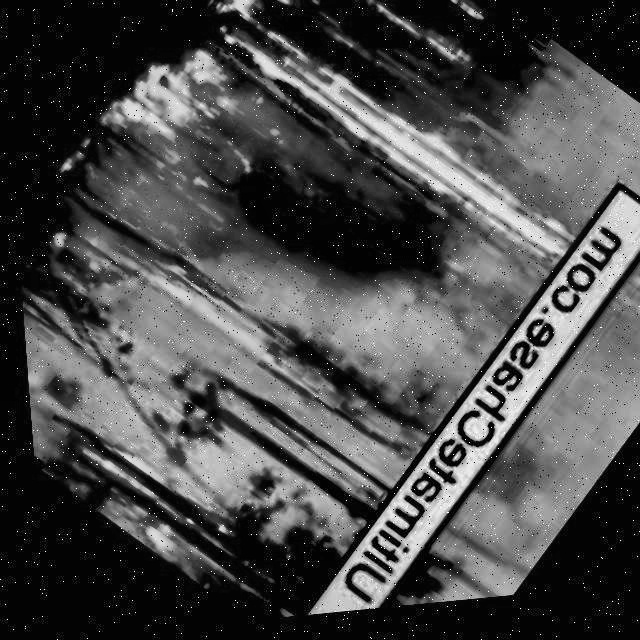Fire: (256, 2, 582, 302), (90, 0, 376, 180), (39, 412, 230, 595), (369, 0, 482, 102), (428, 0, 490, 42)
Smoke: (31, 66, 561, 608), (353, 175, 640, 614), (8, 119, 222, 471)
